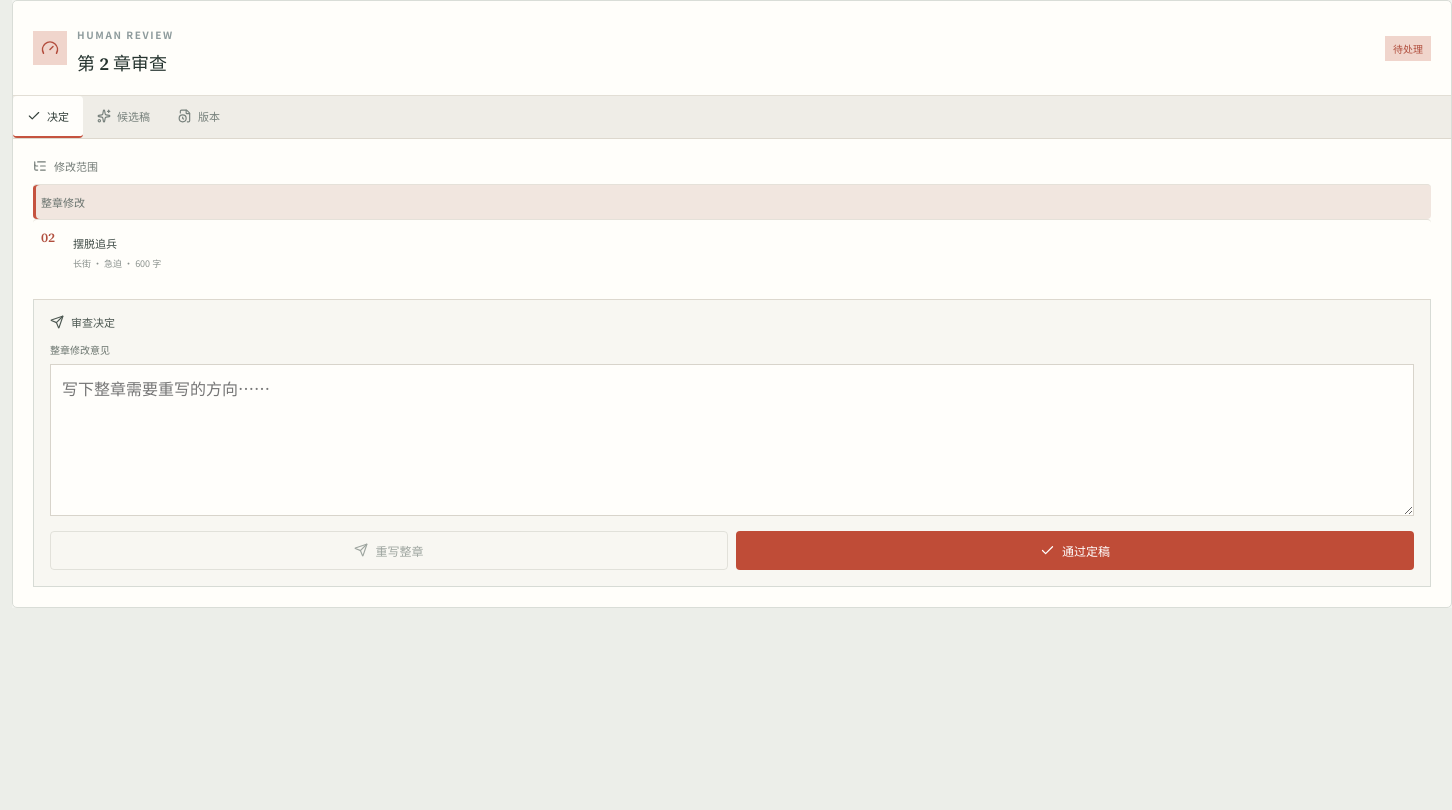
it: ReviewWorkspace › shows versions when evaluation data exists without snapshots
Click the tab "版本".
click(199, 117)  # box [164,96,234,138]
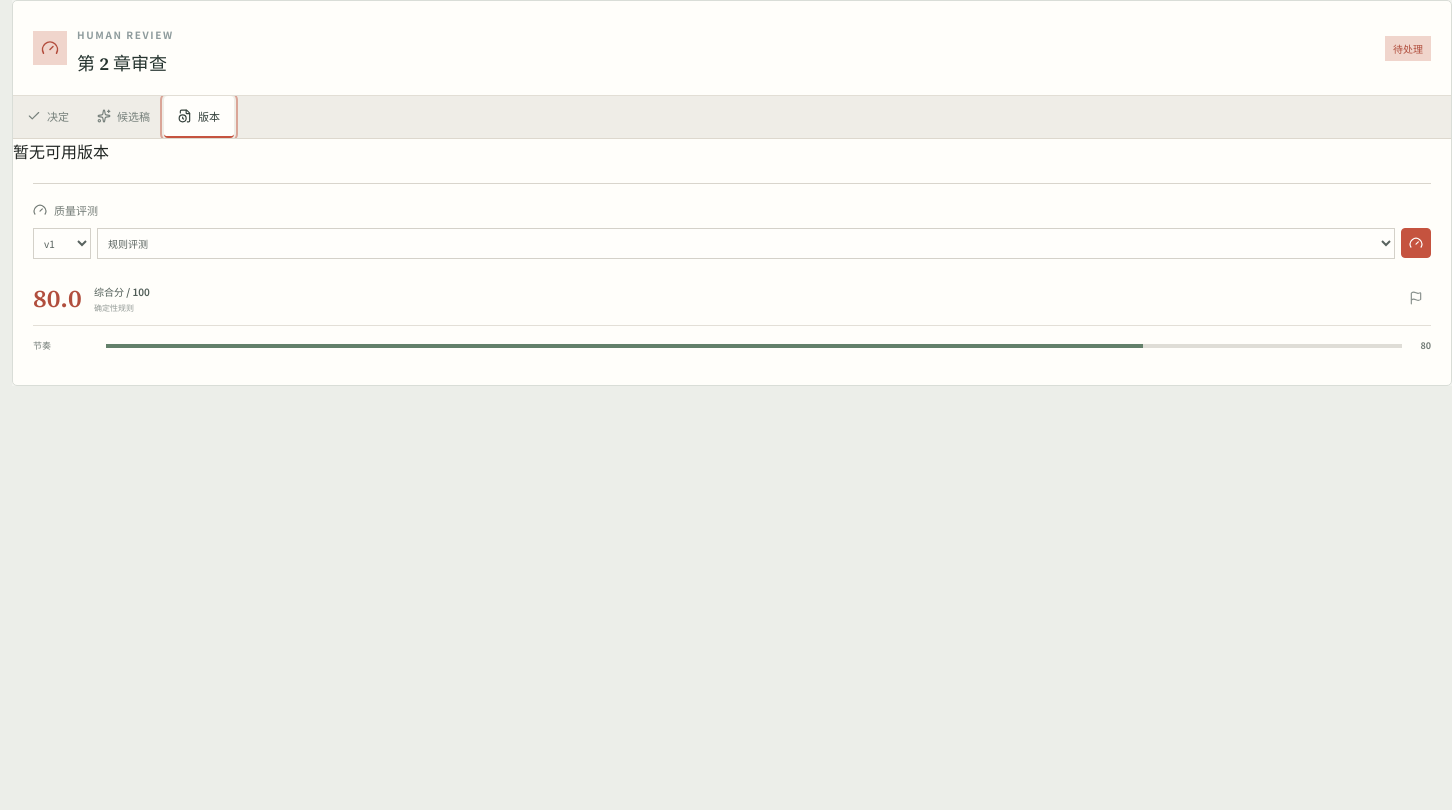
Check: the text "质量评测" is shown, box [33,202,98,218]
Check: the text "80.0" is shown, box [33,281,85,315]
Check: the text "暂无可用版本" is shown, box [13,139,109,163]
